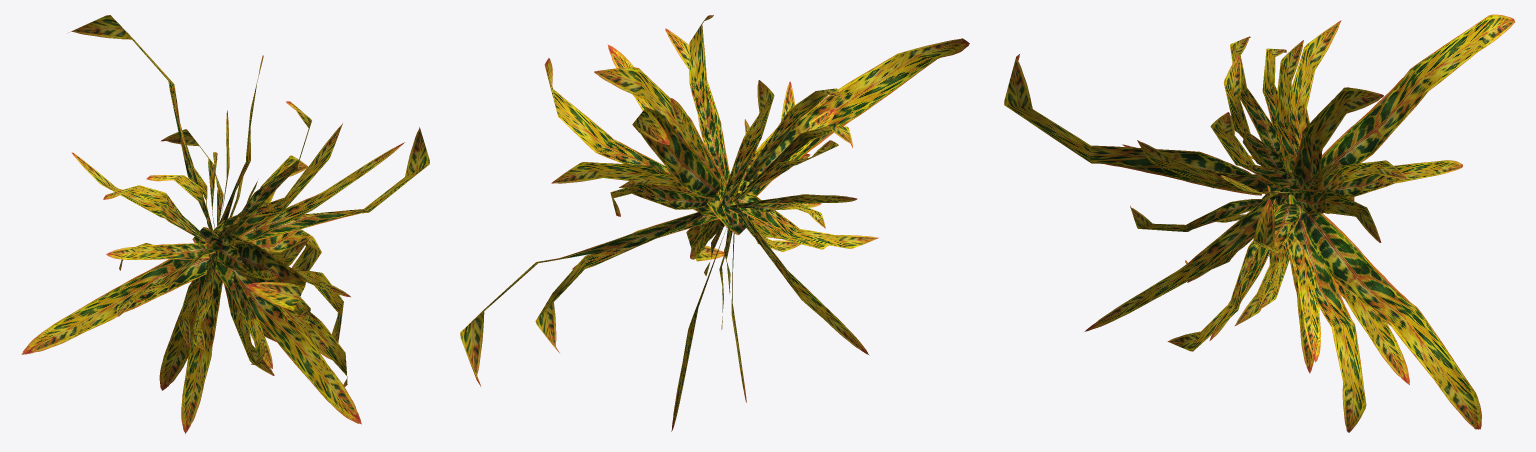
Rendered from AirSnake2.fbx.
3 renders of one model, left to right at view 1: azimuth 30°, elevation 25°; view 2: azimuth 150°, elevation 25°; view 3: azimuth 270°, elevation 25°, orthographic. The views are drawn at different scales.
Visible parts, largest first — view 1: Snakeleaf2.044; view 2: Snakeleaf2.044; view 3: Snakeleaf2.044.
Boxes of the visible parts, x1,y1,x2,y2 form: Snakeleaf2.044: (21, 15, 429, 433); Snakeleaf2.044: (460, 15, 969, 431); Snakeleaf2.044: (1004, 14, 1515, 432).
Bounding box in the file's own units: 1430 × 1335 × 1699.
